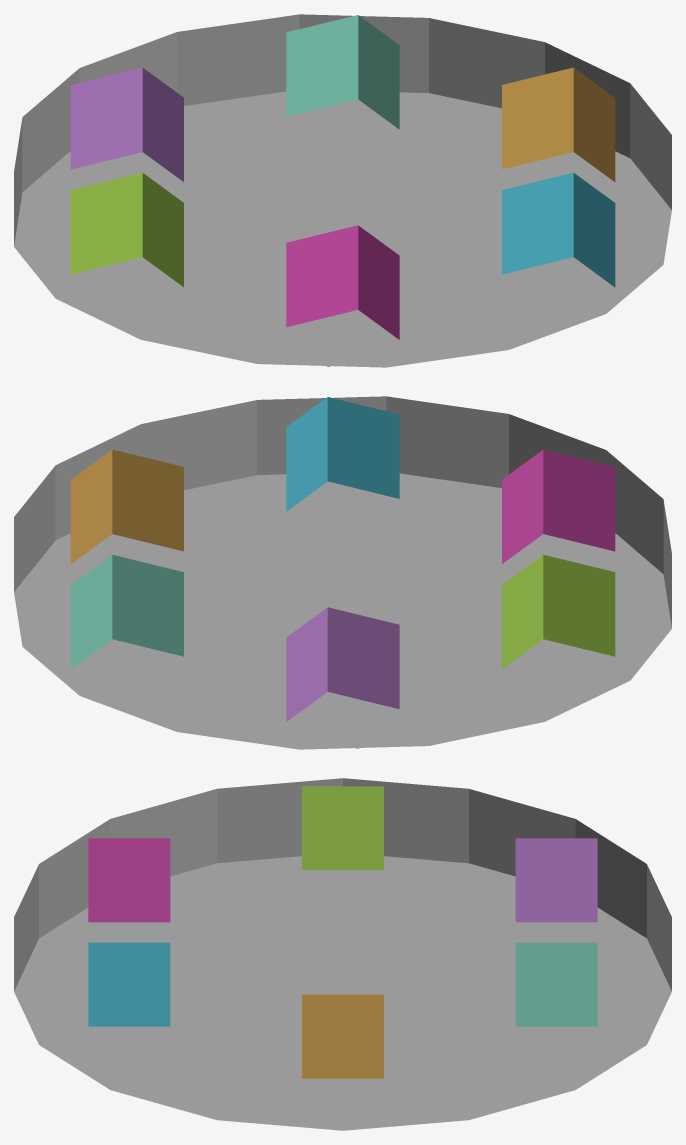
The model's file is thar_filter_wheel.glb.
3 renders of one model, top to bottom at view 1: azimuth 30°, elevation 25°; view 2: azimuth 150°, elevation 25°; view 3: azimuth 270°, elevation 25°, orthographic.
Parts seen in each view (by area): view 1: filter_wheel_body, filter_2, filter_4, filter_1, filter_0, filter_3, filter_5; view 2: filter_wheel_body, filter_4, filter_2, filter_5, filter_0, filter_1, filter_3; view 3: filter_wheel_body, filter_1, filter_2, filter_4, filter_5, filter_0, filter_3.
Part boxes in pixels (left/top/right/bottom): filter_wheel_body: left=14, top=14, right=671, bottom=367; filter_2: left=286, top=225, right=399, bottom=366; filter_4: left=70, top=67, right=183, bottom=181; filter_1: left=502, top=172, right=615, bottom=287; filter_0: left=502, top=67, right=615, bottom=181; filter_3: left=70, top=172, right=183, bottom=286; filter_5: left=286, top=15, right=399, bottom=129; filter_wheel_body: left=14, top=396, right=671, bottom=749; filter_4: left=286, top=607, right=399, bottom=748; filter_2: left=502, top=449, right=615, bottom=563; filter_5: left=70, top=554, right=183, bottom=669; filter_0: left=70, top=449, right=183, bottom=563; filter_1: left=286, top=397, right=399, bottom=511; filter_3: left=502, top=554, right=615, bottom=668; filter_wheel_body: left=14, top=778, right=671, bottom=1130; filter_1: left=88, top=942, right=170, bottom=1026; filter_2: left=88, top=838, right=170, bottom=922; filter_4: left=515, top=838, right=597, bottom=922; filter_5: left=515, top=942, right=597, bottom=1026; filter_0: left=302, top=994, right=383, bottom=1078; filter_3: left=302, top=786, right=383, bottom=869.
Bounding box in the file's own units: 0.16 × 0.025 × 0.16.
